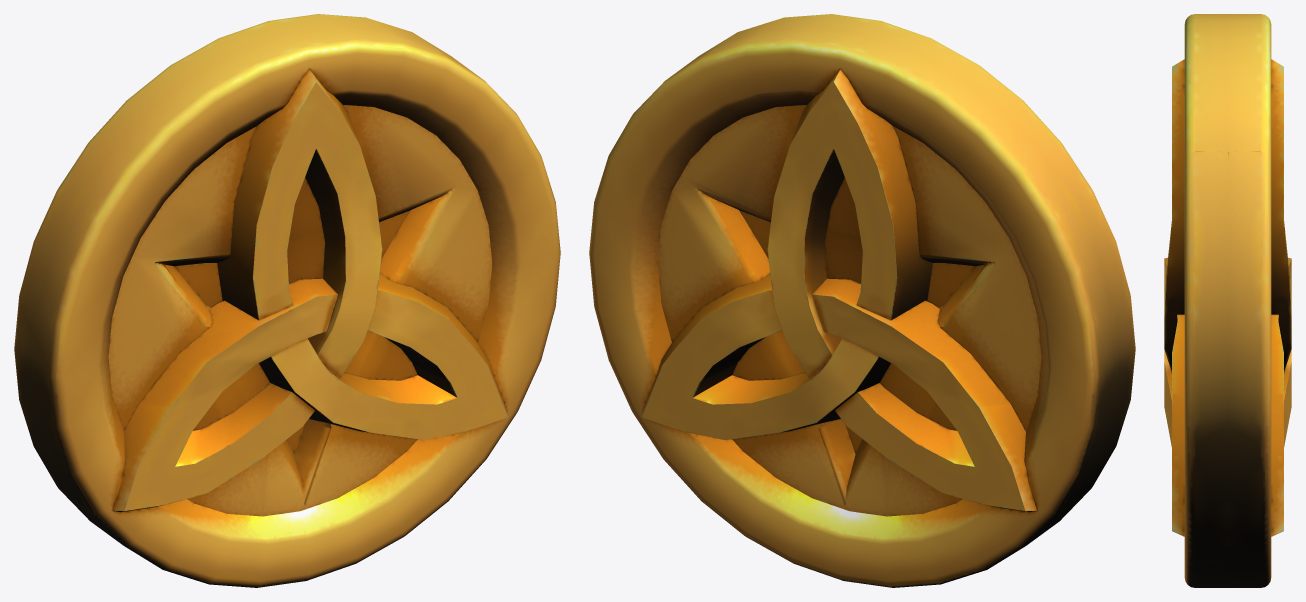
File: coin.glb
3 renders of one model, left to right at view 1: azimuth 30°, elevation 25°; view 2: azimuth 150°, elevation 25°; view 3: azimuth 270°, elevation 25°, orthographic. The views are drawn at different scales.
Visible parts, largest first — view 1: Coin_low.023; view 2: Coin_low.023; view 3: Coin_low.023.
Boxes of the visible parts, <box> form: Coin_low.023: <box>14,14,560,587</box>; Coin_low.023: <box>589,14,1135,587</box>; Coin_low.023: <box>1164,14,1291,587</box>.
Size of the model in its own units: 5.05 by 5.05 by 1.12.
1 material, 1 textured.
